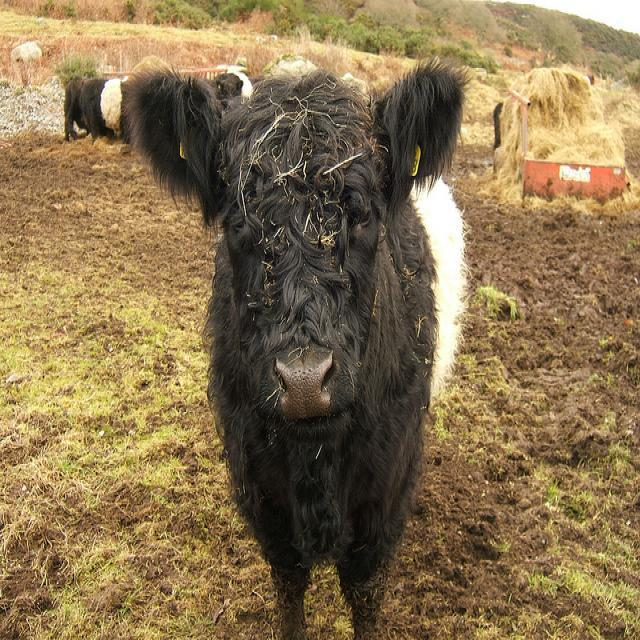cow: (119, 54, 469, 630)
